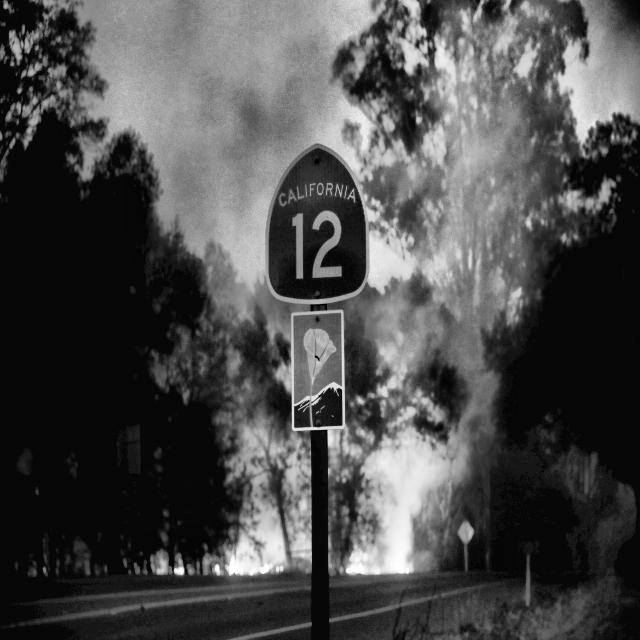fire: (91, 250, 495, 640)
